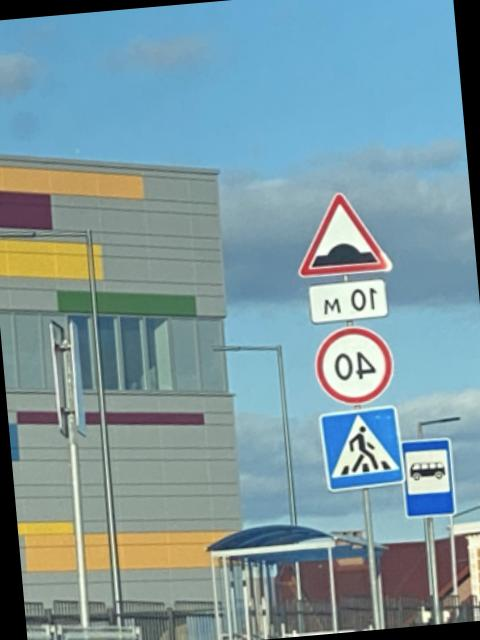crosswalk-sign: (320, 404, 408, 494)
